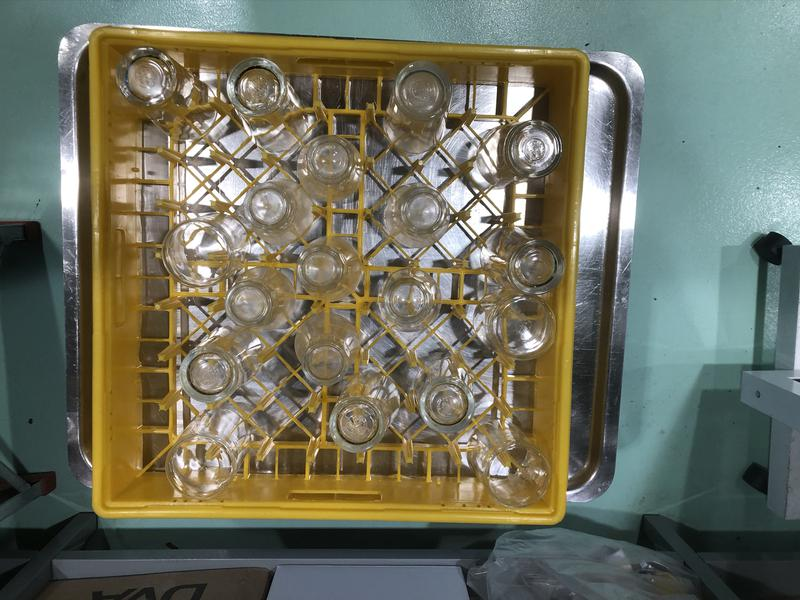Glass: (112, 44, 218, 142), (162, 403, 267, 500), (226, 51, 306, 155), (461, 123, 563, 193), (469, 419, 548, 506), (383, 62, 454, 151), (178, 329, 259, 403), (161, 214, 245, 284), (483, 224, 564, 293), (331, 371, 398, 450), (403, 362, 472, 433), (293, 313, 357, 388), (487, 293, 555, 362), (298, 132, 364, 203), (243, 179, 308, 245), (382, 182, 448, 247), (296, 239, 360, 305), (228, 267, 294, 330), (380, 265, 438, 333)
